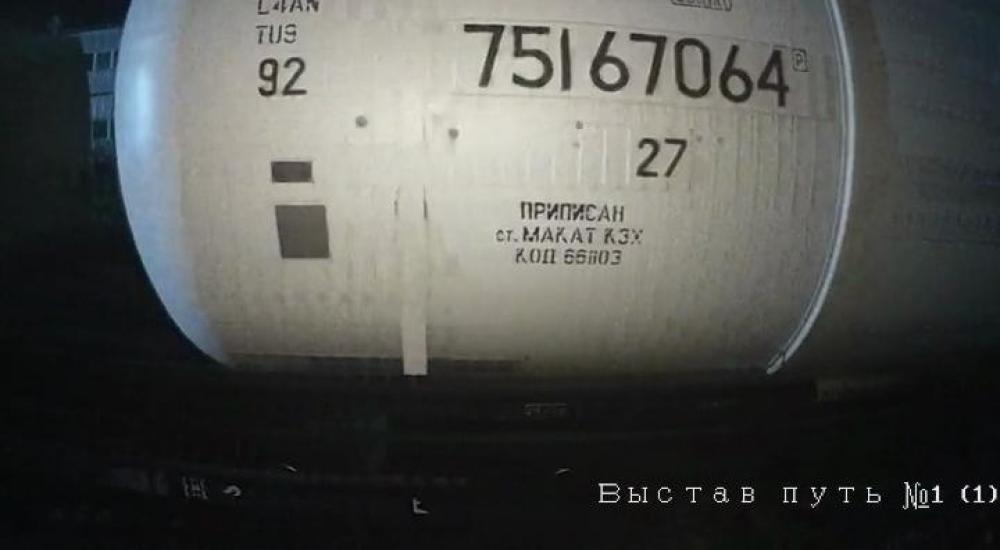Wagon-number: (457, 18, 795, 112)
